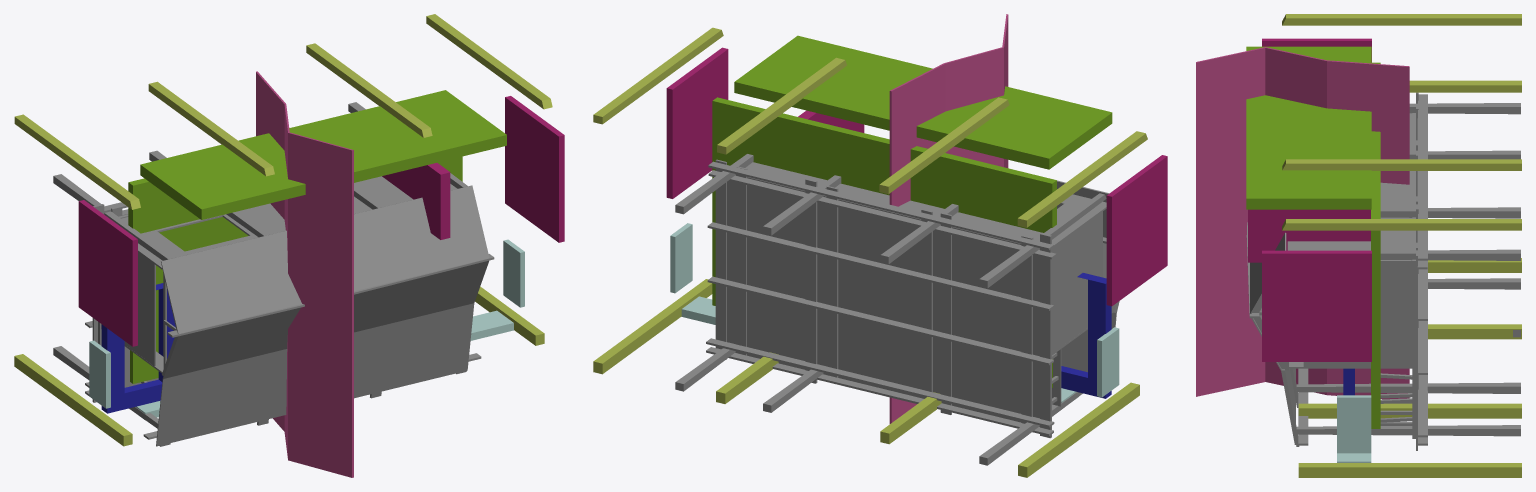
File: trop_JungleHut01.glb
The picture shows the model from 3 angles, left to right: view 1: azimuth 30°, elevation 25°; view 2: azimuth 150°, elevation 25°; view 3: azimuth 270°, elevation 25°; orthographic projection. The views are drawn at different scales.
Visible parts, largest first — view 1: geometry_0; view 2: geometry_0; view 3: geometry_0.
Boxes of the visible parts, x1,y1,x2,y2 form: geometry_0: [14, 14, 564, 477]; geometry_0: [593, 14, 1167, 477]; geometry_0: [1196, 14, 1521, 477].
Size of the model in its own units: 30 by 21.73 by 19.21.
